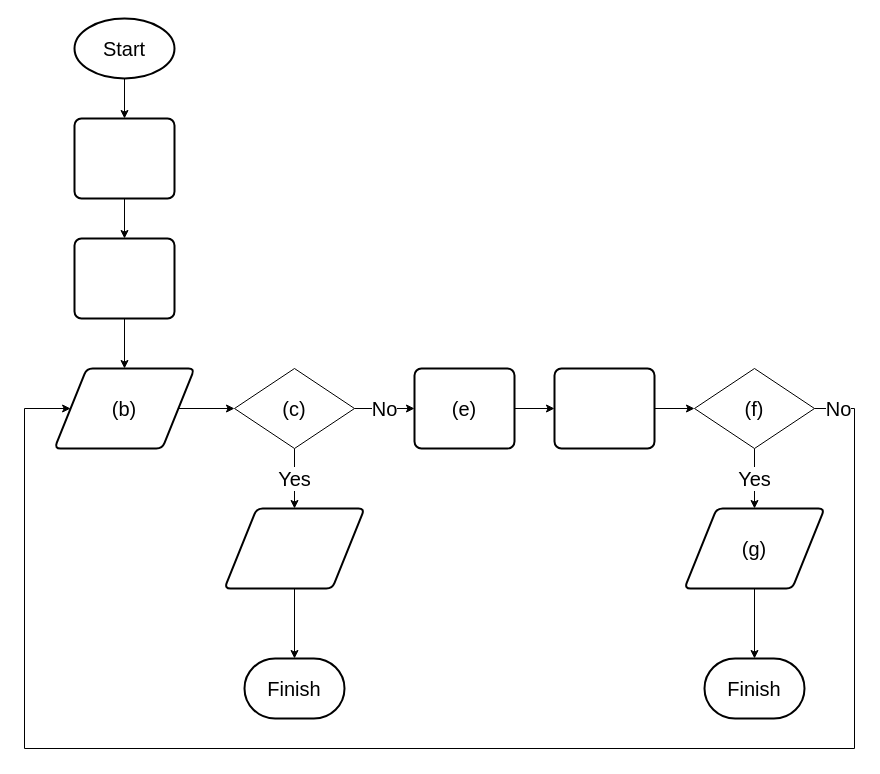
Some shapes in this 880 by 774 pixel diagram are drawn without their labels. The shapes that lost their labels are listed below. From the top down, each one's box as (x1, y1, x2, y2) in pixels, then its label:
(73, 117, 175, 199): Set guess counter to 0
(73, 237, 175, 319): (a)
(553, 367, 655, 449): Add 1 to guess counter
(223, 507, 365, 589): (d)
